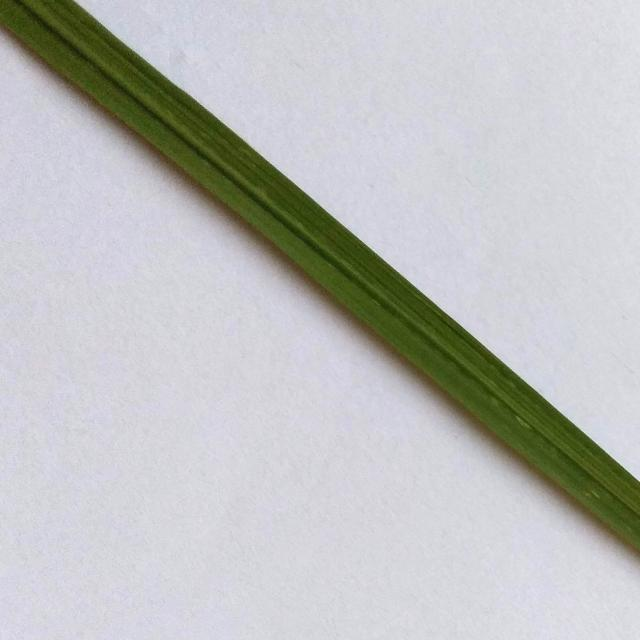Rice_Healthy: (0, 0, 640, 549)
